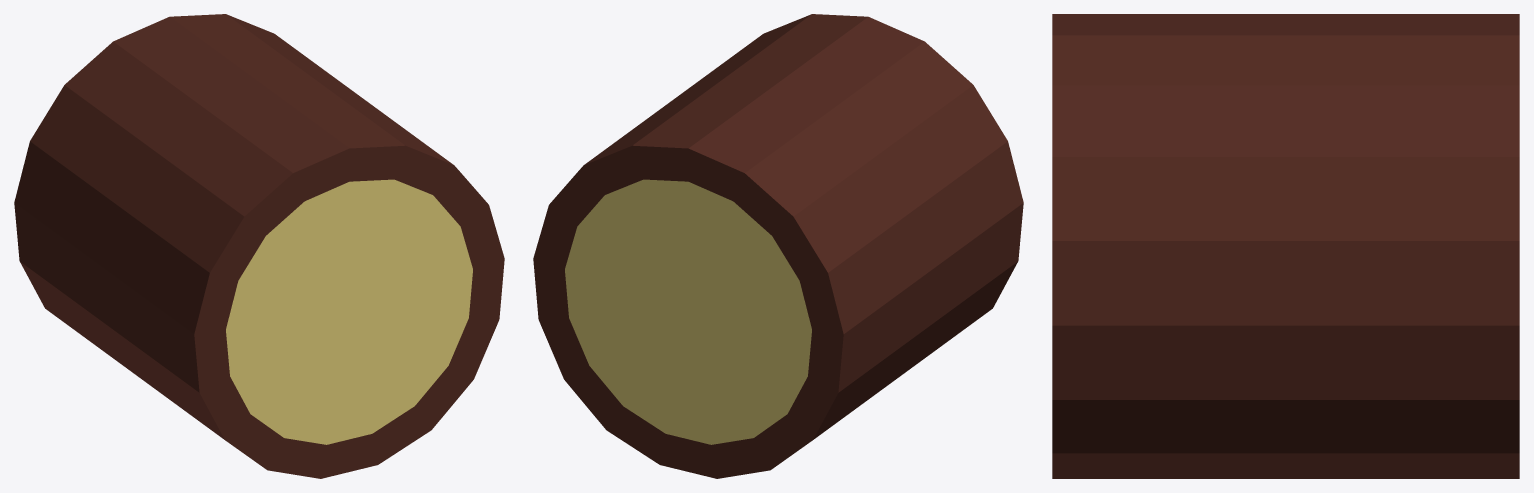
The model's file is log.obj.
3 renders of one model, left to right at view 1: azimuth 30°, elevation 25°; view 2: azimuth 150°, elevation 25°; view 3: azimuth 270°, elevation 25°, orthographic. The views are drawn at different scales.
Visible parts, largest first — view 1: Cylinder; view 2: Cylinder; view 3: Cylinder.
Part boxes in pixels (left/top/right/bottom): Cylinder: left=14, top=14, right=504, bottom=478; Cylinder: left=533, top=14, right=1023, bottom=478; Cylinder: left=1052, top=14, right=1519, bottom=478.
Bounding box in the file's own units: 1.99 × 1.98 × 2.
